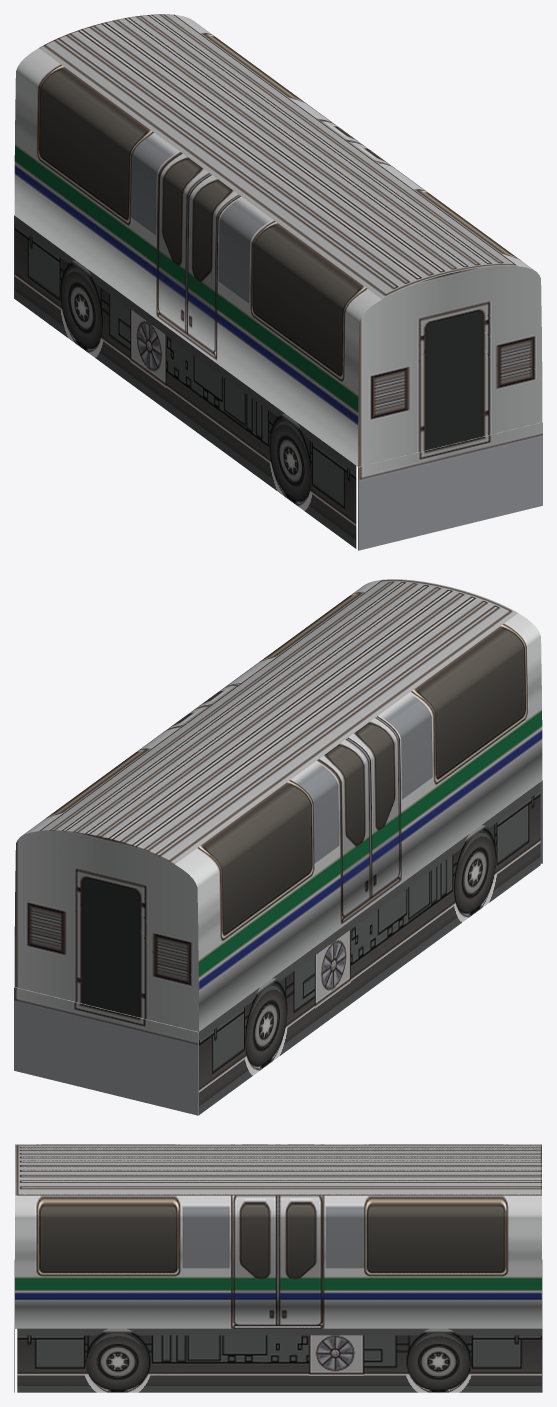
File: car4.glb
The picture shows the model from 3 angles, top to bottom: view 1: azimuth 30°, elevation 25°; view 2: azimuth 150°, elevation 25°; view 3: azimuth 270°, elevation 25°; orthographic projection. The views are drawn at different scales.
Parts seen in each view (by area): view 1: kobesinkotu-portliner2000-car4; view 2: kobesinkotu-portliner2000-car4; view 3: kobesinkotu-portliner2000-car4.
Part boxes in pixels (bbox=[...]): kobesinkotu-portliner2000-car4: bbox=[14, 14, 542, 550]; kobesinkotu-portliner2000-car4: bbox=[14, 579, 542, 1115]; kobesinkotu-portliner2000-car4: bbox=[14, 1144, 542, 1392].
Size of the model in its own units: 2.48 by 3.27 by 8.03.
9 materials, 8 textured.
